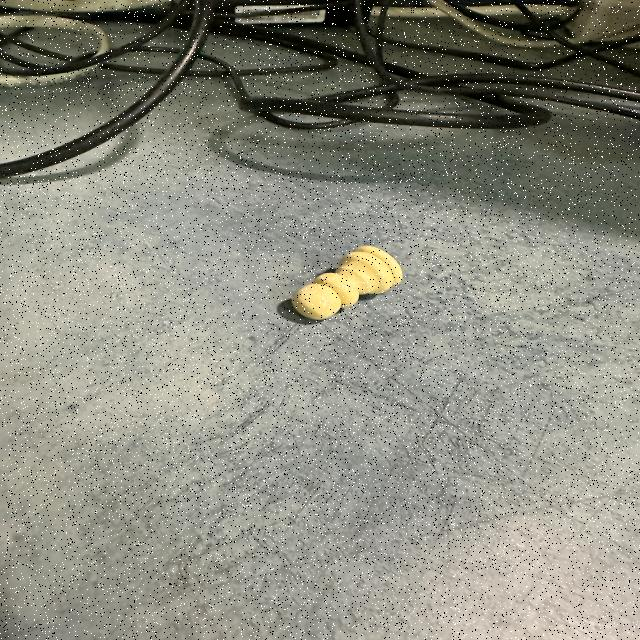White-Pawn: (289, 243, 405, 322)
